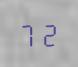seven: (19, 20, 38, 47)
two: (39, 19, 58, 46)
